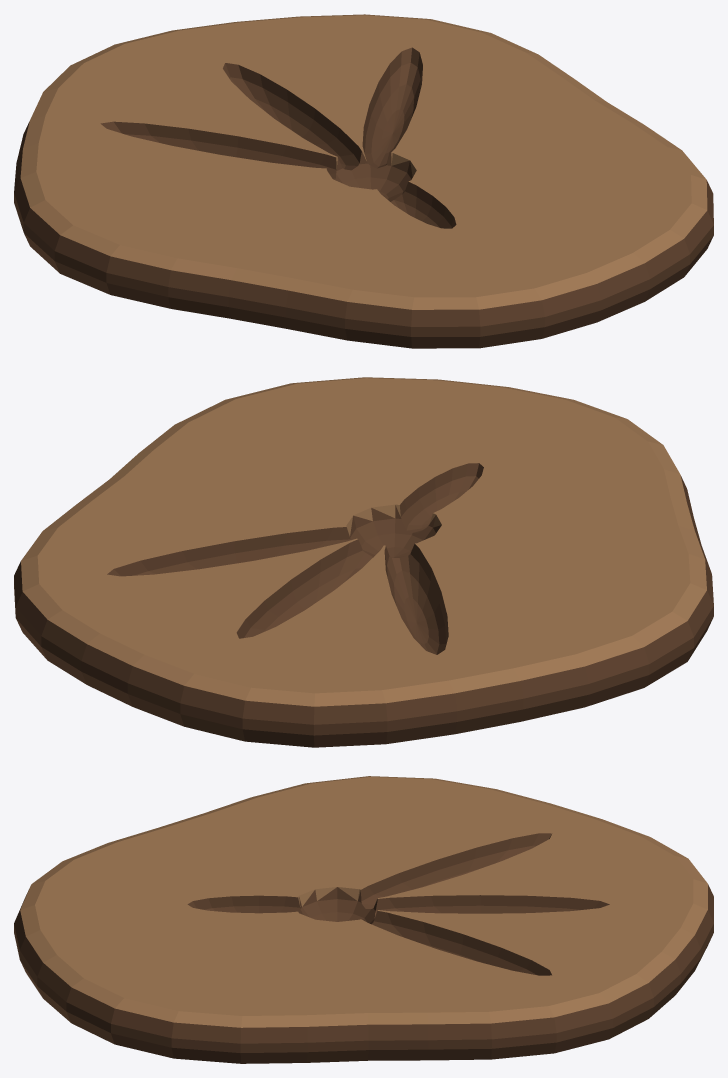
Rendered from pegada-passaro.glb.
The picture shows the model from 3 angles, top to bottom: view 1: azimuth 30°, elevation 25°; view 2: azimuth 150°, elevation 25°; view 3: azimuth 270°, elevation 25°; orthographic projection. The views are drawn at different scales.
Visible parts, largest first — view 1: pegada-passaro; view 2: pegada-passaro; view 3: pegada-passaro.
Part boxes in pixels (x1,y1,x2,y2): pegada-passaro: (14,14,713,348); pegada-passaro: (14,377,713,747); pegada-passaro: (14,776,713,1063).
Bounding box in the file's own units: 0.2341 × 0.02 × 0.2695.
